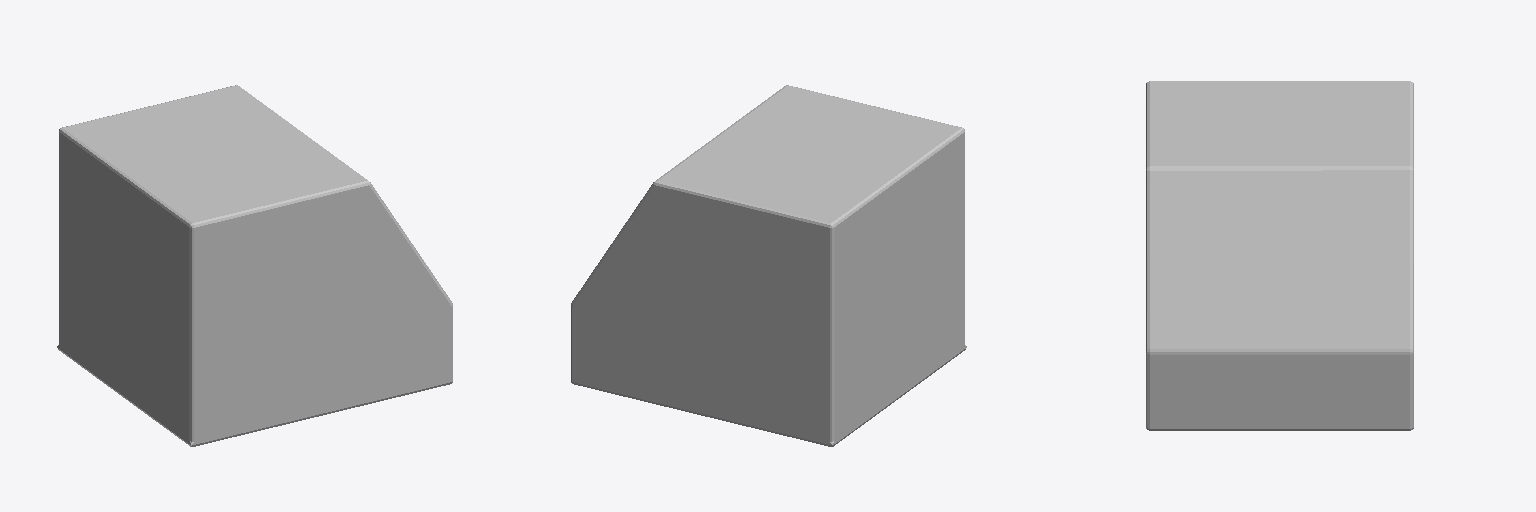
The model's file is concrete-footer.obj.
3 renders of one model, left to right at view 1: azimuth 30°, elevation 25°; view 2: azimuth 150°, elevation 25°; view 3: azimuth 270°, elevation 25°, orthographic.
Visible parts, largest first — view 1: Concrete_footer; view 2: Concrete_footer; view 3: Concrete_footer.
Part boxes in pixels (bbox=[...]): Concrete_footer: bbox=[57, 85, 452, 446]; Concrete_footer: bbox=[571, 85, 966, 446]; Concrete_footer: bbox=[1146, 81, 1413, 430].
Size of the model in its own units: 0.3392 by 0.2751 by 0.2989.